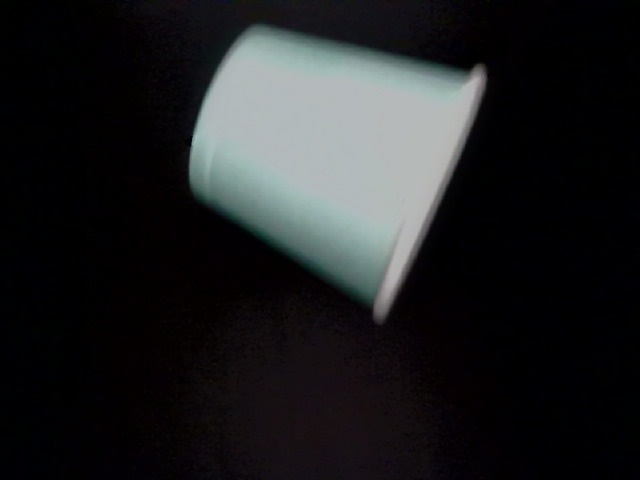KHSLJ: (1, 1, 238, 322)
